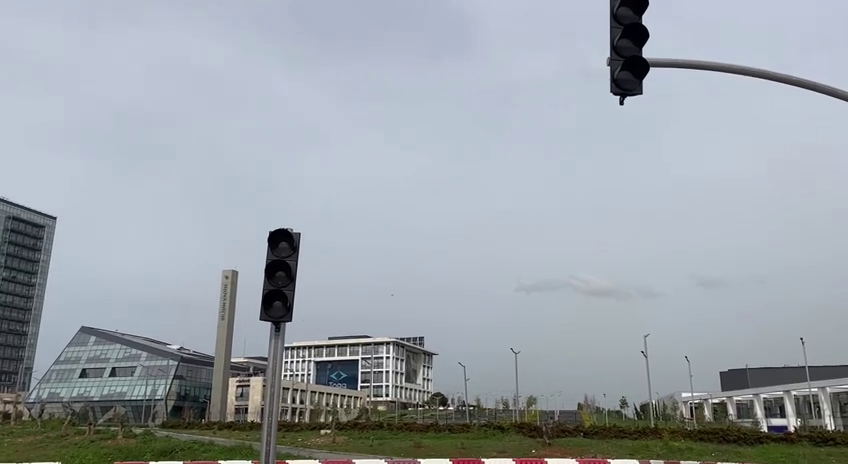trafficLight: (602, 1, 655, 109), (256, 223, 306, 329)
